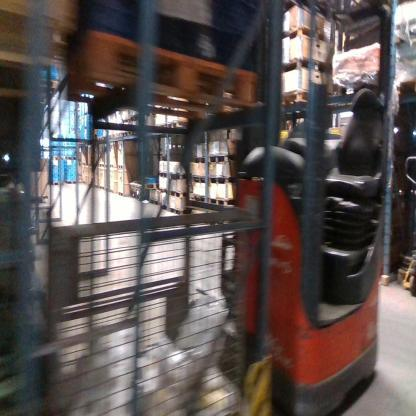pallets: (146, 185, 237, 216), (159, 149, 239, 174), (271, 51, 333, 80), (274, 26, 333, 44)
